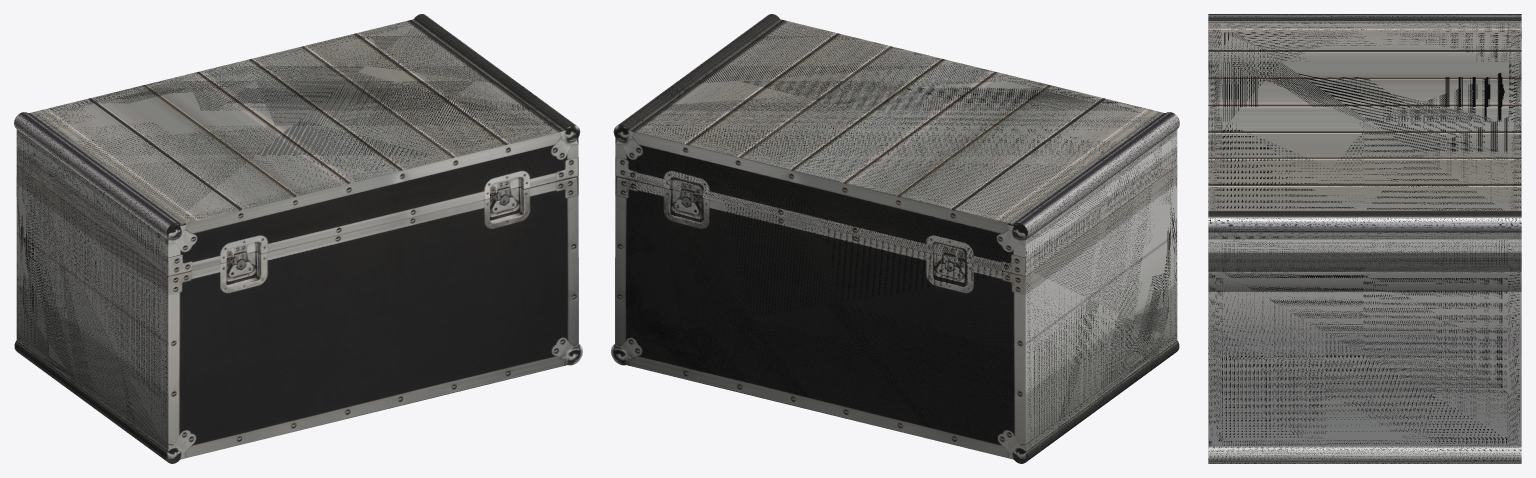
3 views of the same model, side by side, from view 1: azimuth 30°, elevation 25°; view 2: azimuth 150°, elevation 25°; view 3: azimuth 270°, elevation 25° (orthographic). The views are drawn at different scales.
Visible parts, largest first — view 1: Mesh1_M_121646_0, Mesh1_Color_008_0, Mesh1_Color_003_0; view 2: Mesh1_M_121646_0, Mesh1_Color_008_0, Mesh1_Color_003_0; view 3: Mesh1_M_121646_0, Mesh1_Color_008_0, Mesh1_Color_003_0.
Boxes of the visible parts, x1,y1,x2,y2 form: Mesh1_M_121646_0: (14,14,582,463); Mesh1_Color_008_0: (23,25,551,436); Mesh1_Color_003_0: (14,15,568,458); Mesh1_M_121646_0: (611,14,1179,463); Mesh1_Color_008_0: (625,26,1170,443); Mesh1_Color_003_0: (625,15,1179,458); Mesh1_M_121646_0: (1208,14,1521,463); Mesh1_Color_008_0: (1222,23,1507,438); Mesh1_Color_003_0: (1208,14,1521,463).
Bounding box in the file's own units: 891 × 493 × 560.
Materials: 5 (2 with a texture image).
